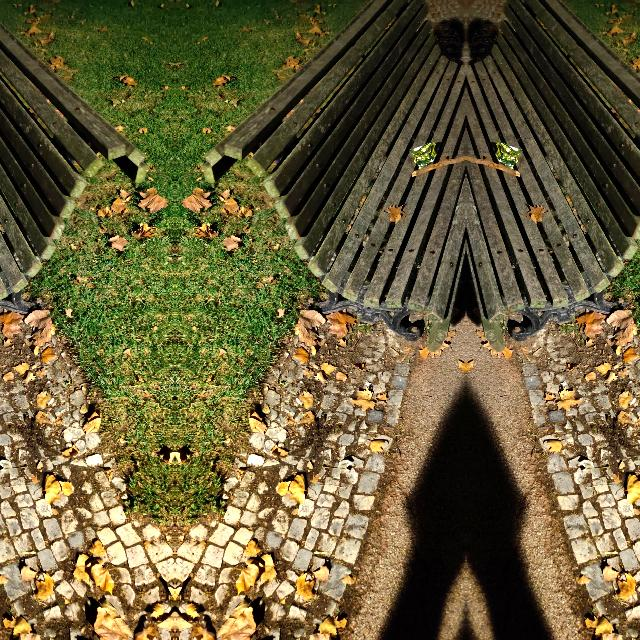Plastic: (408, 139, 440, 169), (491, 139, 523, 169)
